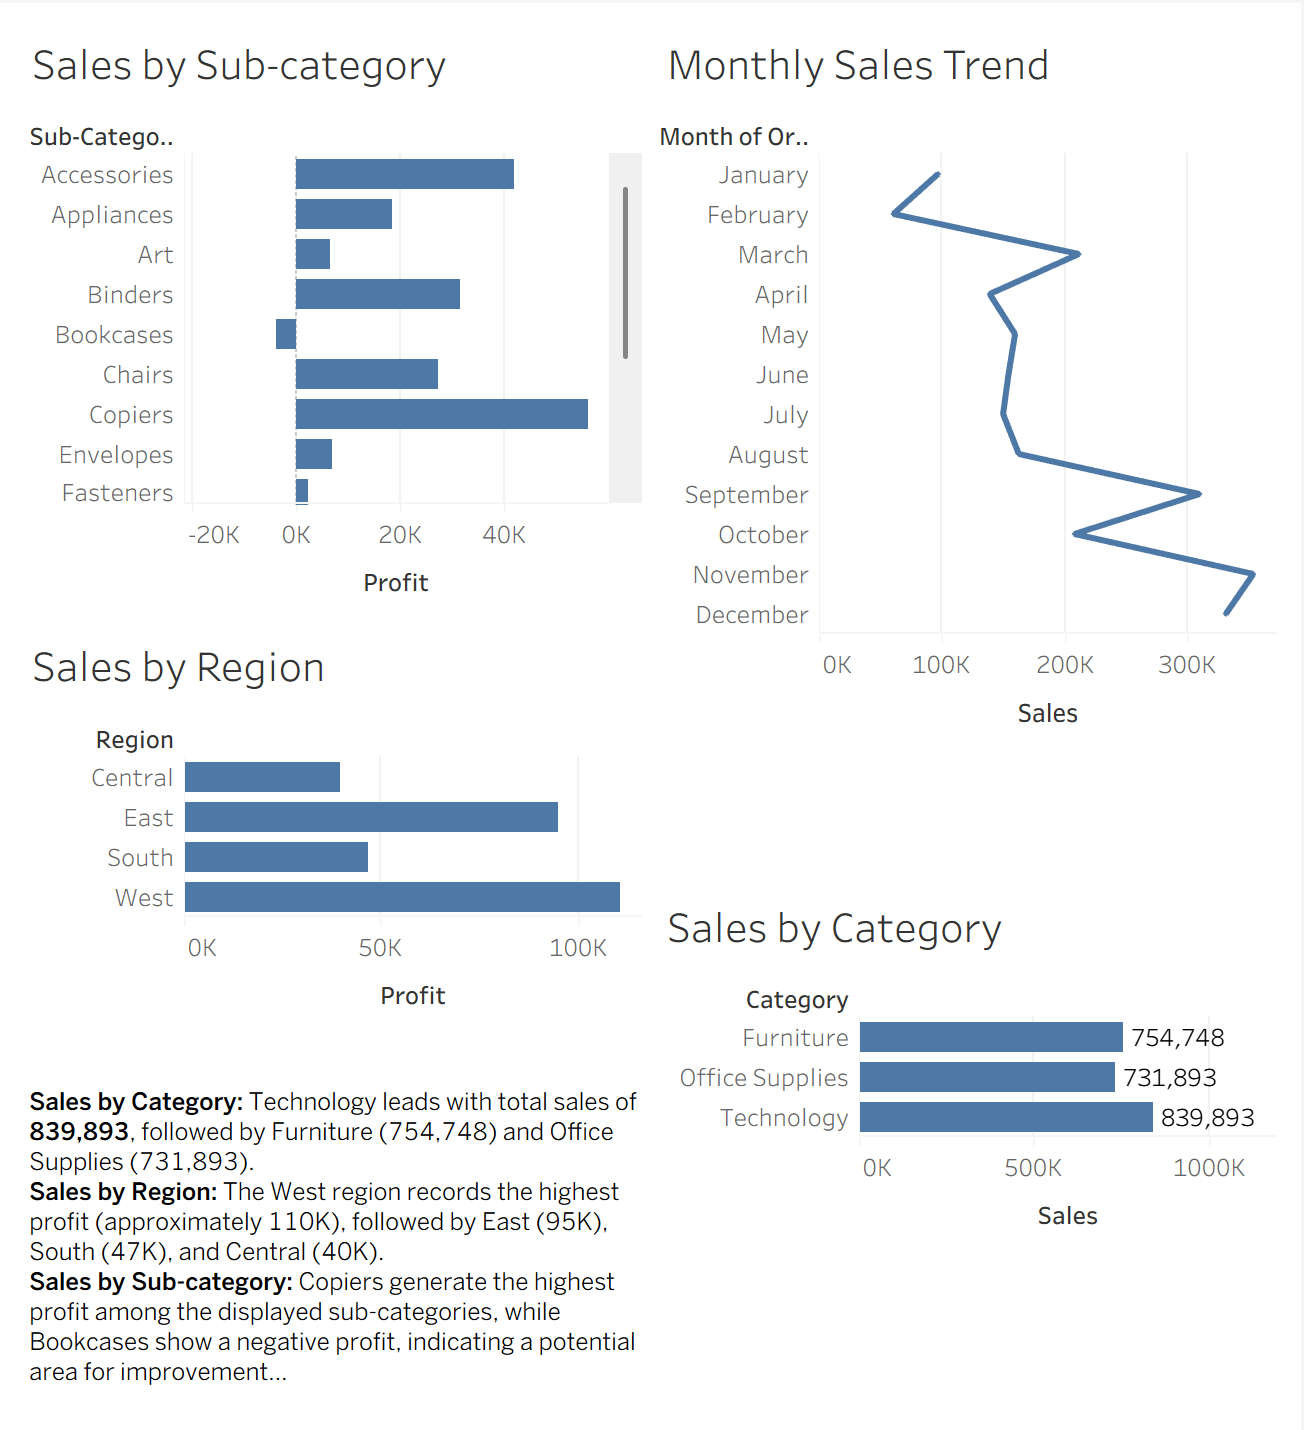

This screenshot's page, from the dashboard's own definition file:
{"tool":"tableau","page":{"name":"Superstore Sales & Profit Analysis","canvas":[650,860],"ordinal":0},"visuals":[{"type":"worksheet","title":"Sales by Sub-category","mark":"Automatic","rows":["Sub-Category"],"cols":["Profit"],"box":[8,9.6,317,361]},{"type":"worksheet","title":"Monthly Sales Trend","mark":"Automatic","rows":["Order Date"],"cols":["Sales"],"box":[325,9.6,317,517]},{"type":"worksheet","title":"Sales by Region","mark":"Automatic","rows":["Region"],"cols":["Profit"],"box":[8,370.6,317,269.6]},{"type":"worksheet","title":"Sales by Category","mark":"Automatic","rows":["Category"],"cols":["Sales"],"box":[325,526.6,317,323.9]},{"type":"text","box":[8,640.2,317,210.2]}]}

Visuals, with their boxes on the page's 650x860 design canvas (x1, y1, x2, y2). These are canvas units, not pixel positions in the 1304x1430 screenshot, which may show the page scaled, cropped or inside an application window:
"Sales by Sub-category" worksheet: <region>8, 10, 325, 371</region>
"Monthly Sales Trend" worksheet: <region>325, 10, 642, 527</region>
"Sales by Region" worksheet: <region>8, 371, 325, 640</region>
"Sales by Category" worksheet: <region>325, 527, 642, 850</region>
text: <region>8, 640, 325, 850</region>
